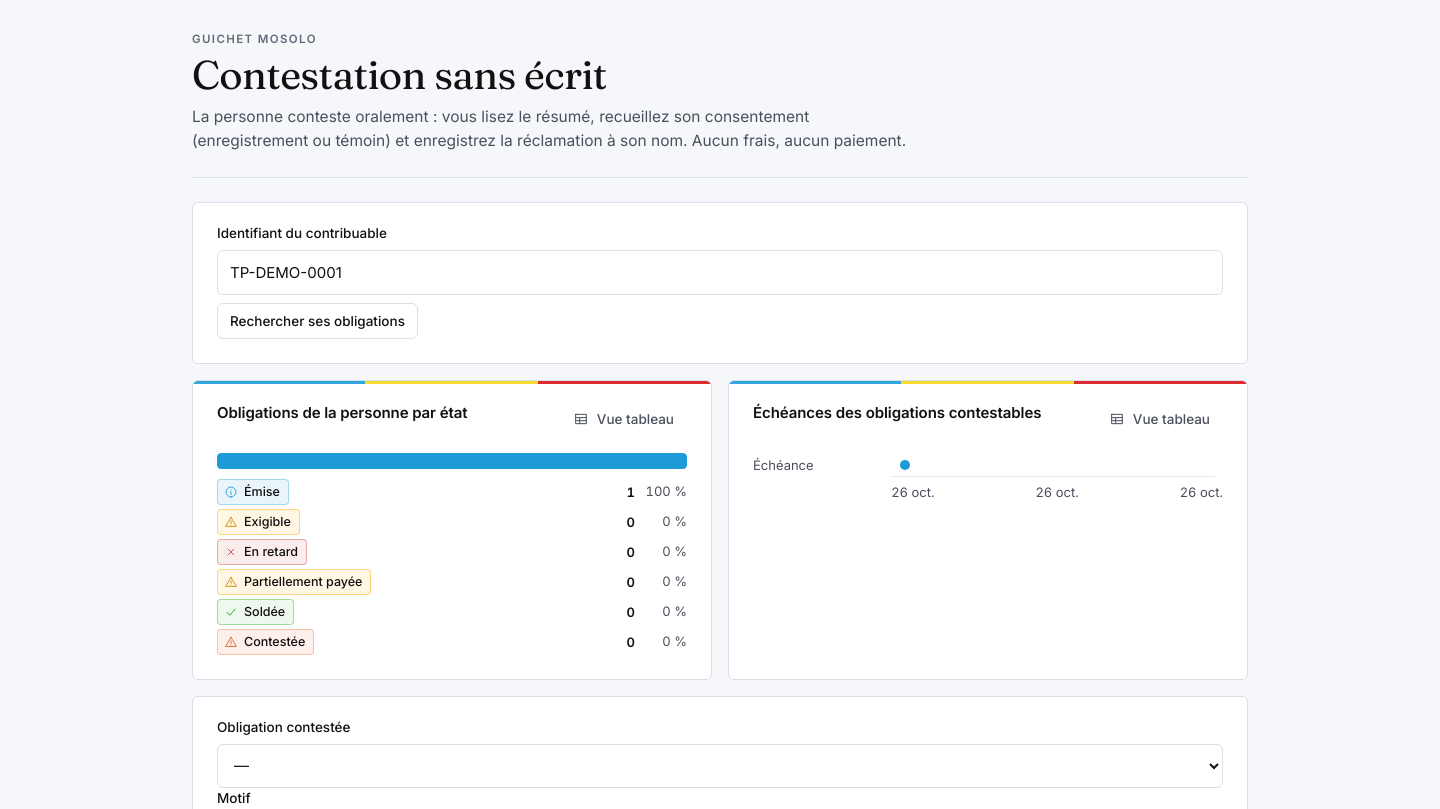
Contestation sans écrit au guichet (§ 13A.6) › le résumé doit être lu avant l’enregistrement ; consentement devant témoin transmis
Earlier steps of the test are not shown.
Select "Impôt foncier — 🇺🇸 USD 150,00 — échéance 2026-10-26" in the dropdown labelled "Obligation contestée": (720, 766) [217,744,1223,788]
(page scrolled)
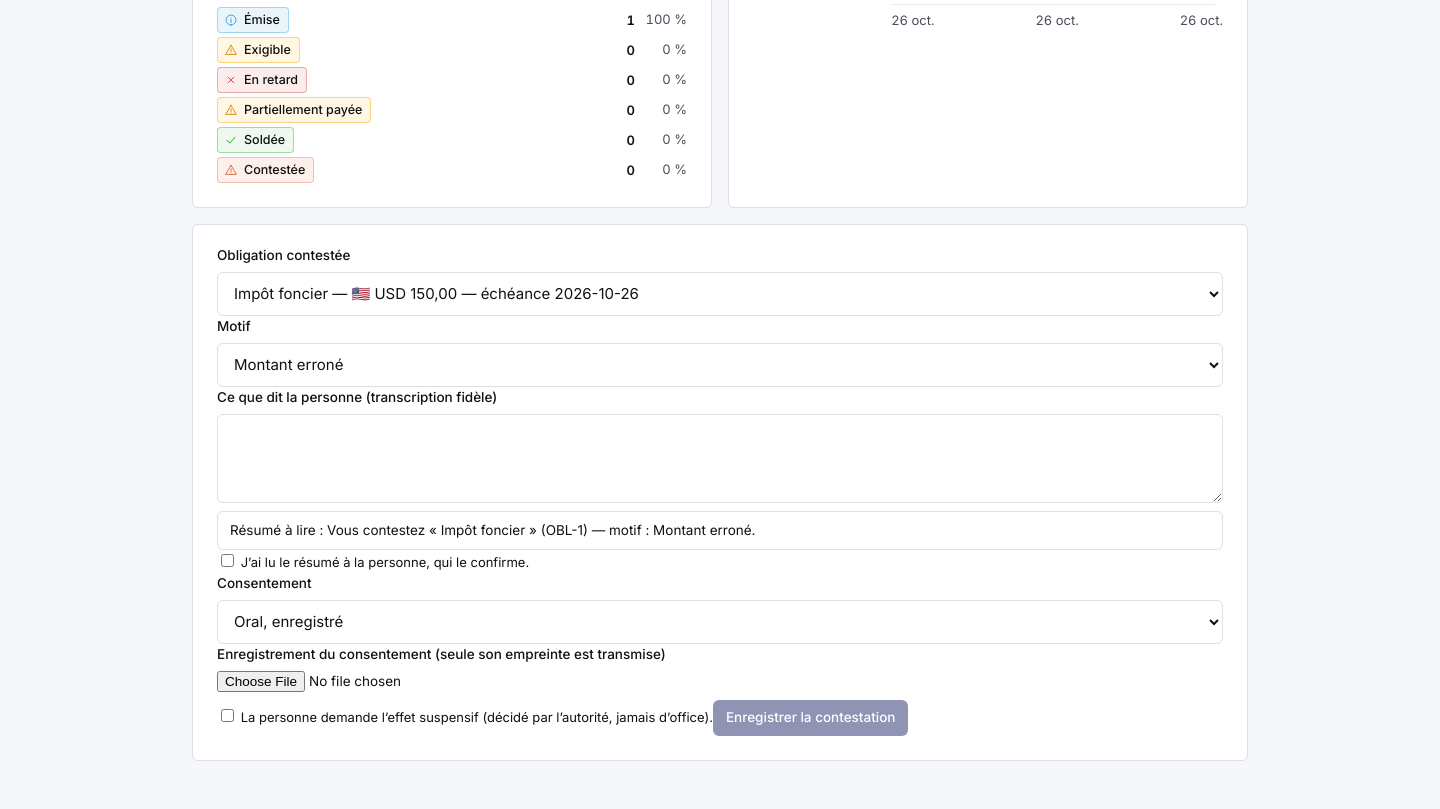
In the text box labelled "Ce que dit la personne (transcription fidèle)": (720, 459) [217,414,1223,503], type "Le bien a été vendu en 2025"
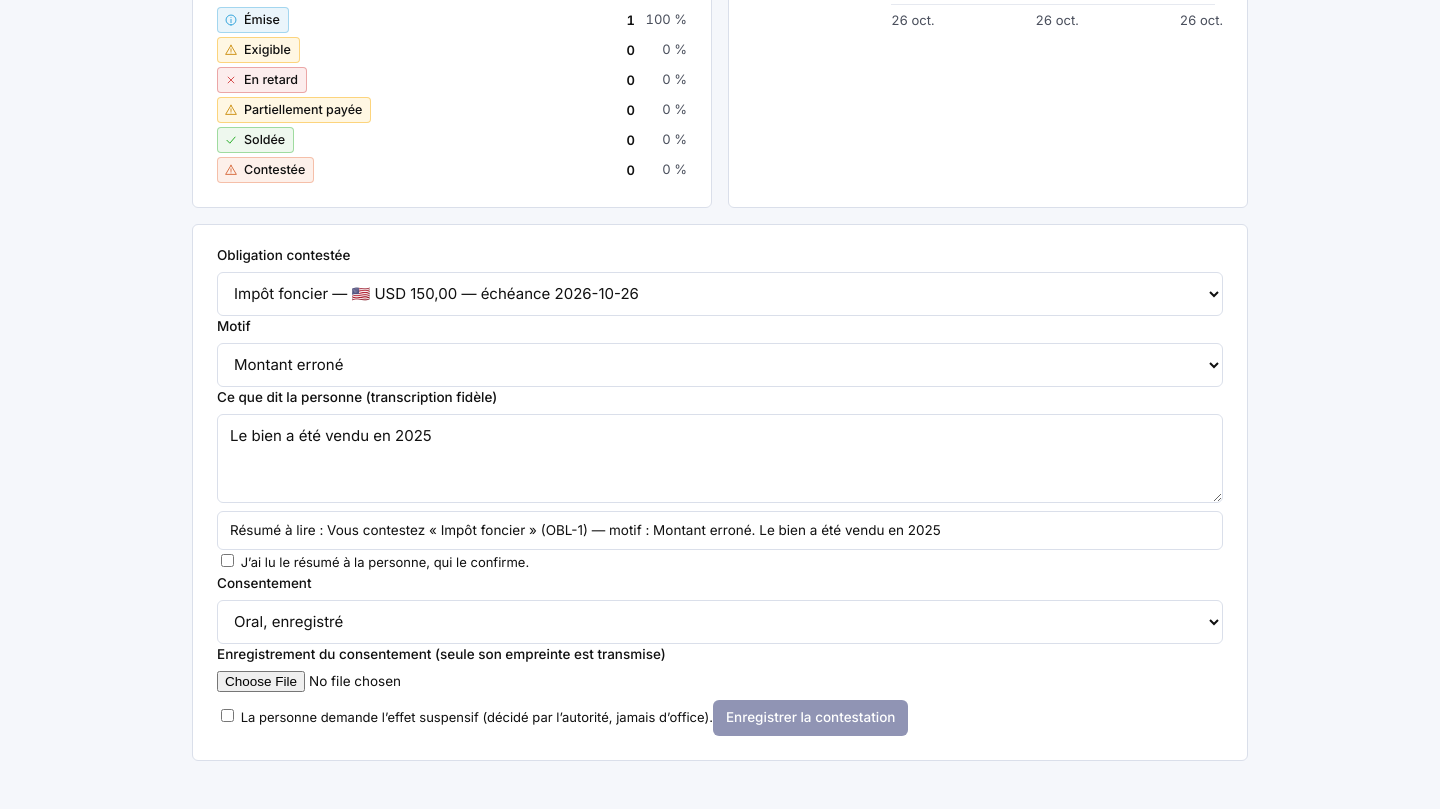
Select "Devant témoin" in the dropdown labelled "Consentement": (720, 622) [217,600,1223,644]
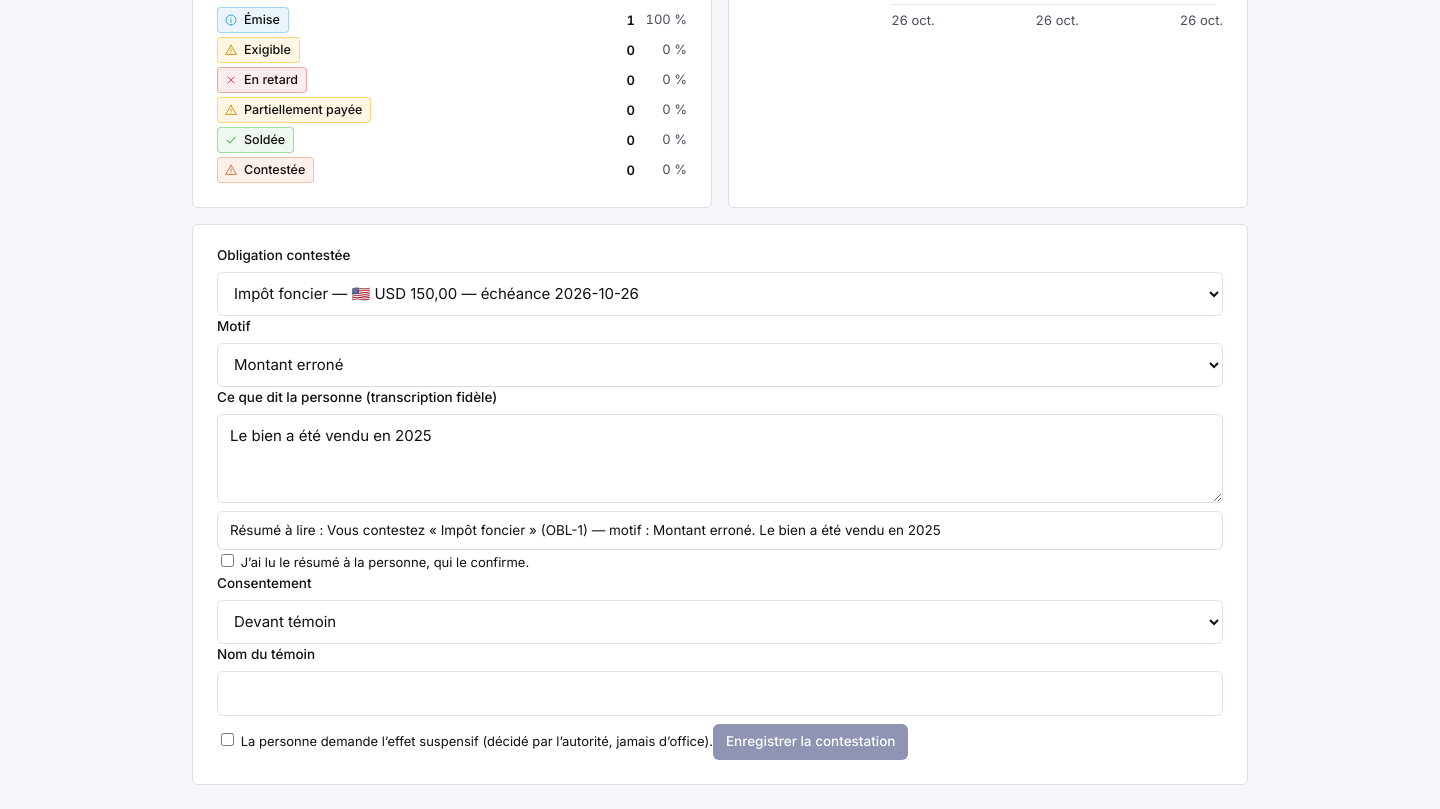
In the field labelled "Nom du témoin": (720, 693) [217,671,1223,716], type "Témoin fictif"
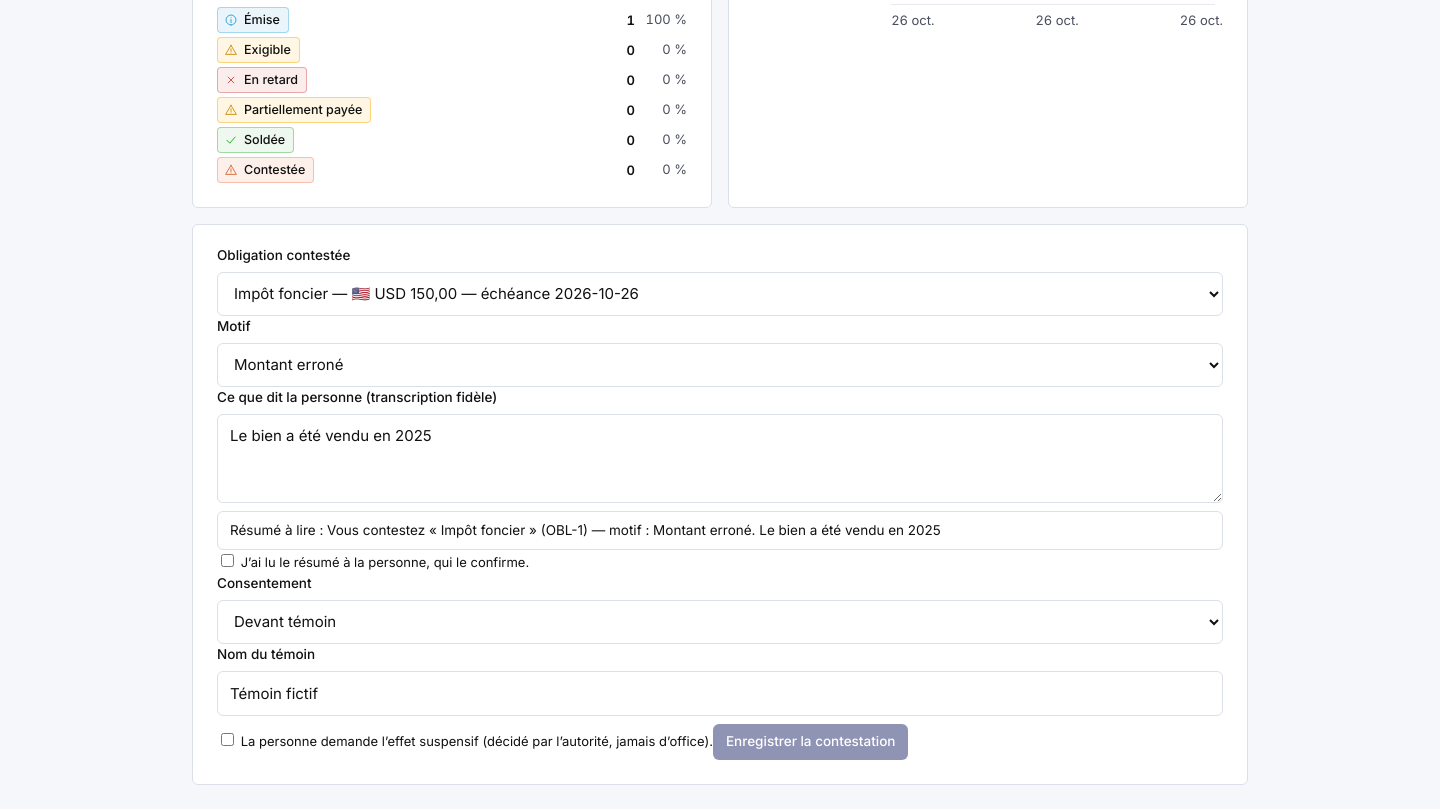
Result: the button "Enregistrer la contestation" is disabled at [713,724,908,760]
Click the checkbox labelled "J’ai lu le résumé à la personne, qui le confirme.": (228, 560) [221,554,234,566]
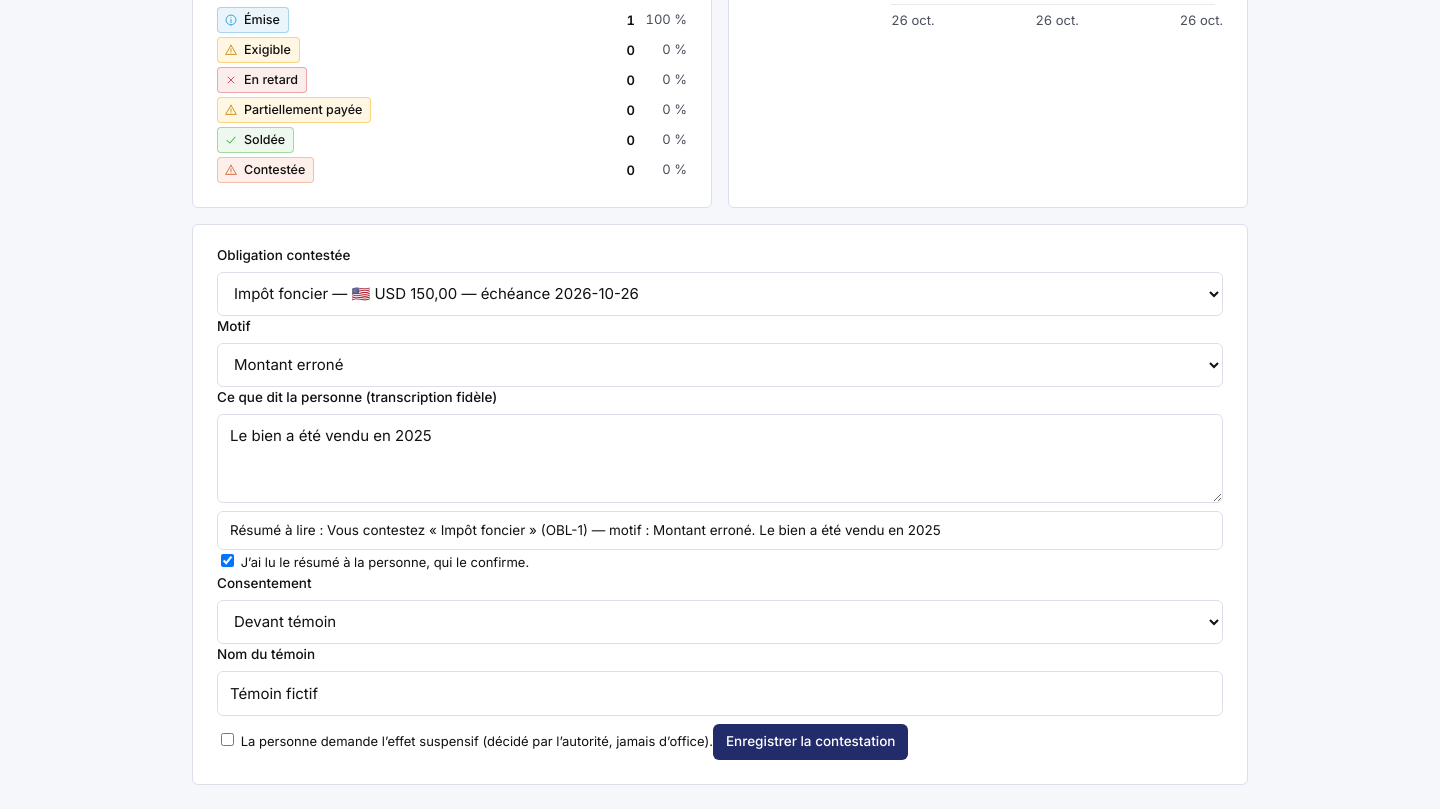
Click the button "Enregistrer la contestation": (811, 742) [713,724,908,760]
(page scrolled)
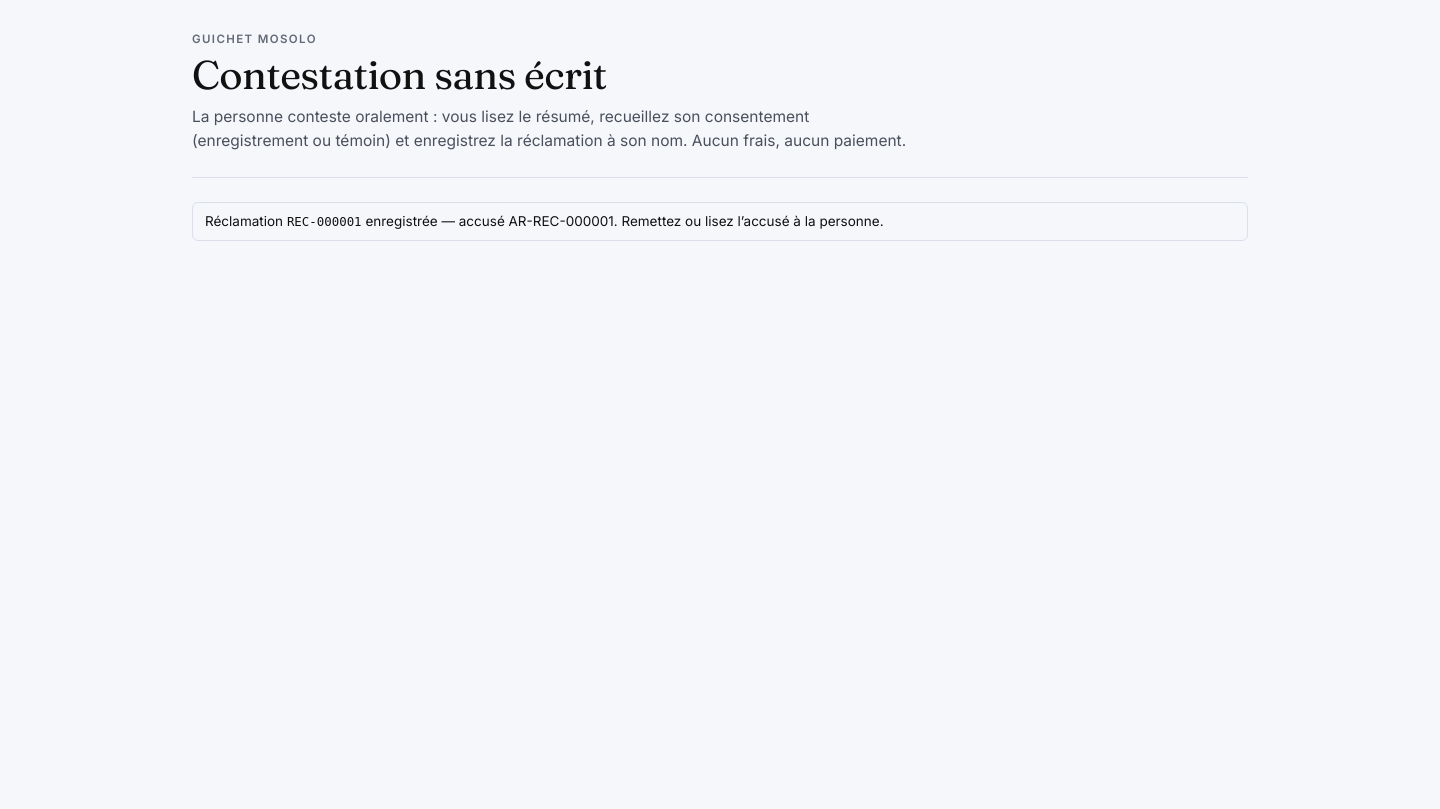
Result: the text "AR-REC-000001" is shown at [438,213,614,229]
